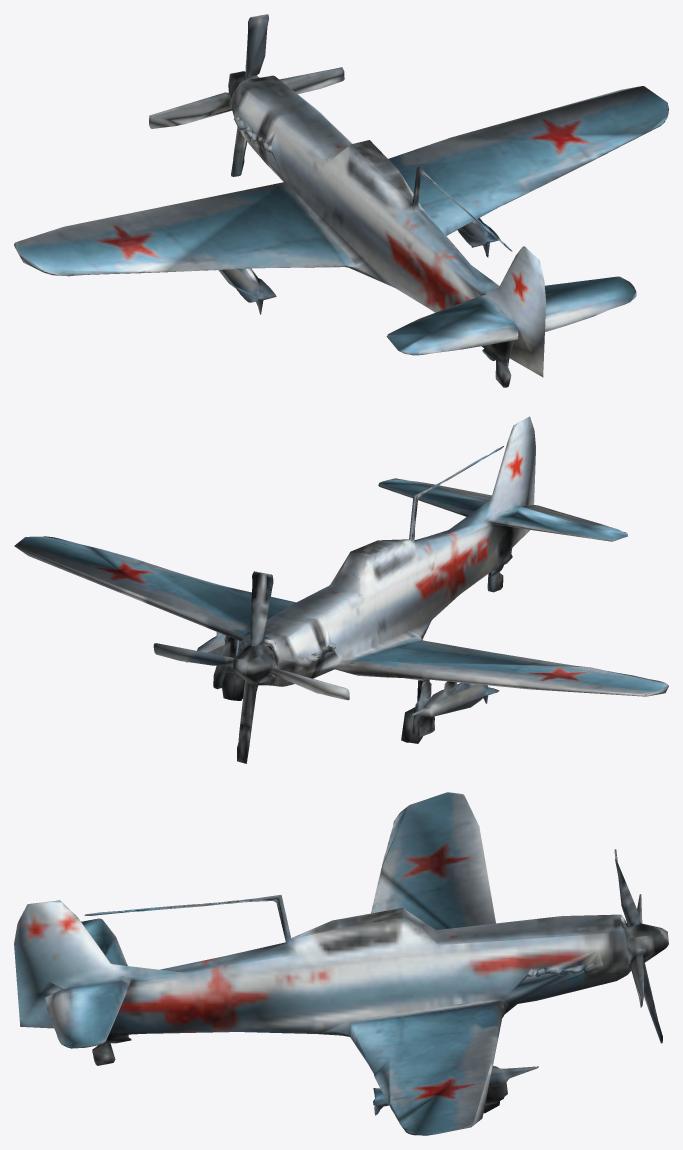
The model's file is yak.glb.
3 renders of one model, top to bottom at view 1: azimuth 30°, elevation 25°; view 2: azimuth 150°, elevation 25°; view 3: azimuth 270°, elevation 25°, orthographic. The views are drawn at different scales.
Parts seen in each view (by area): view 1: Object_4; view 2: Object_4; view 3: Object_4.
Boxes of the visible parts, bbox=[...] form: Object_4: bbox=[14, 14, 668, 387]; Object_4: bbox=[14, 416, 668, 763]; Object_4: bbox=[14, 792, 668, 1135].
Bounding box in the file's own units: 2.64 × 0.7751 × 2.17.
1 material, 1 textured.
